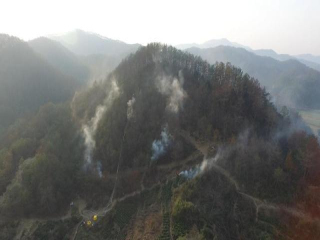smoke: (82, 76, 226, 182)
